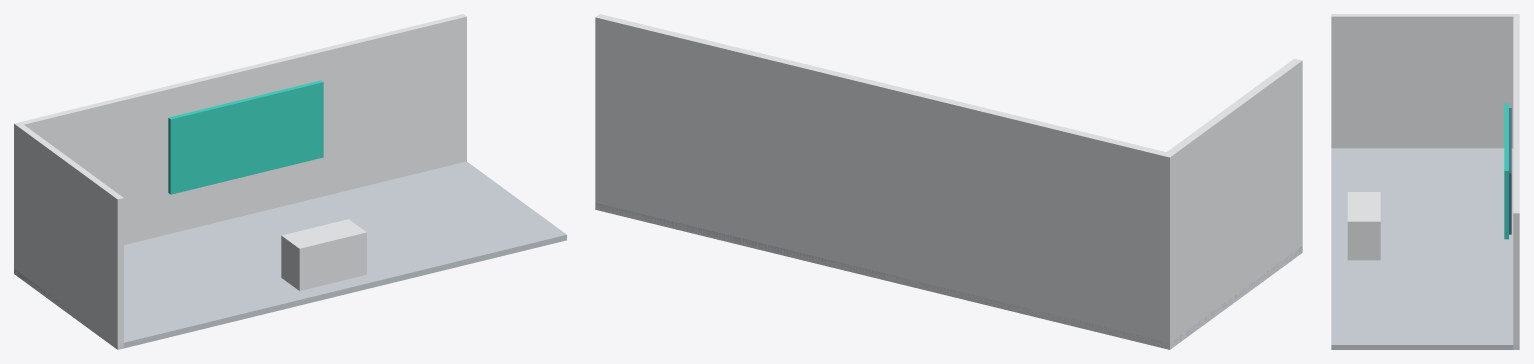
3 views of the same model, side by side, from view 1: azimuth 30°, elevation 25°; view 2: azimuth 150°, elevation 25°; view 3: azimuth 270°, elevation 25° (orthographic). The views are drawn at different scales.
Visible parts, largest first — view 1: Exhibition Booth Concept; view 2: Exhibition Booth Concept; view 3: Exhibition Booth Concept.
Boxes of the visible parts, x1=… form: Exhibition Booth Concept: x1=14, y1=14, x2=566, y2=349; Exhibition Booth Concept: x1=595, y1=14, x2=1302, y2=349; Exhibition Booth Concept: x1=1331, y1=14, x2=1519, y2=349.
Size of the model in its own units: 10 by 3.2 by 4.
